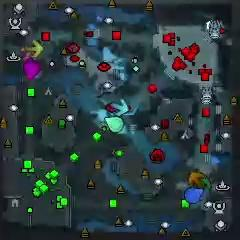p1: (185, 188, 204, 203)
p2: (105, 116, 124, 132)
p3: (23, 60, 41, 80)
x1: (20, 45, 31, 60)
x2: (25, 40, 44, 59)
x3: (111, 100, 128, 117)
x4: (199, 176, 213, 189)
x5: (188, 171, 204, 187)
